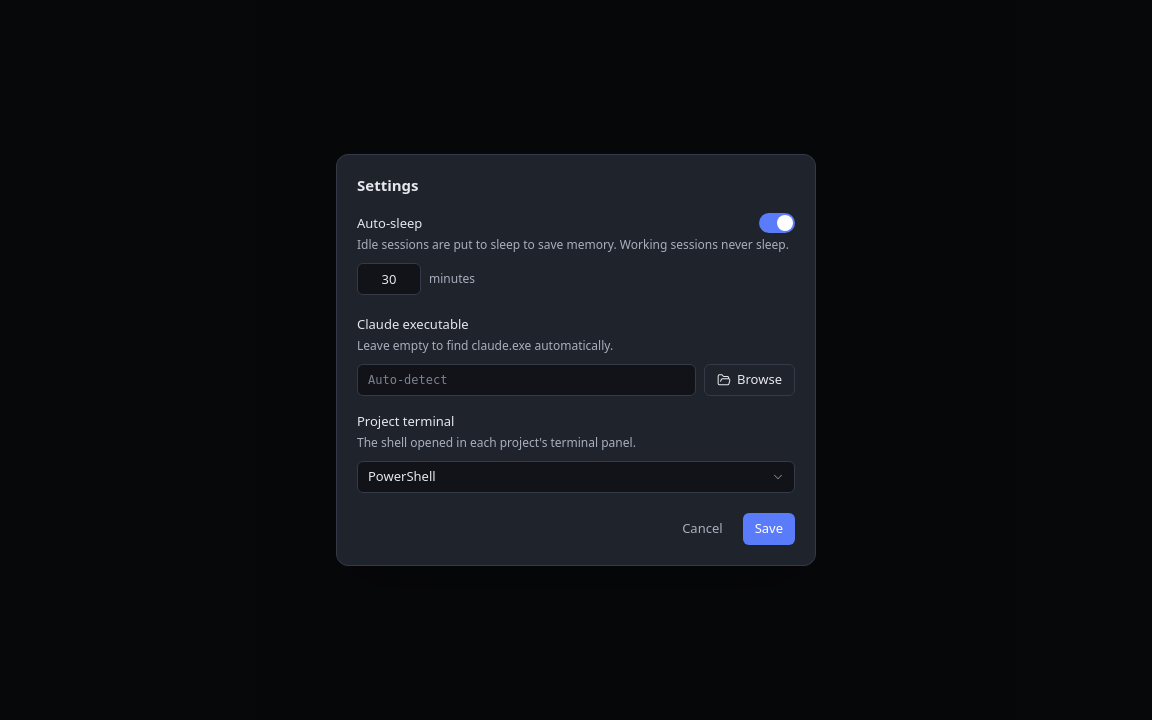
SettingsDialog › Browse fills the path from the dialog plugin
Step 1. Click the button "Browse" → (750, 380), box [704,364,795,396]
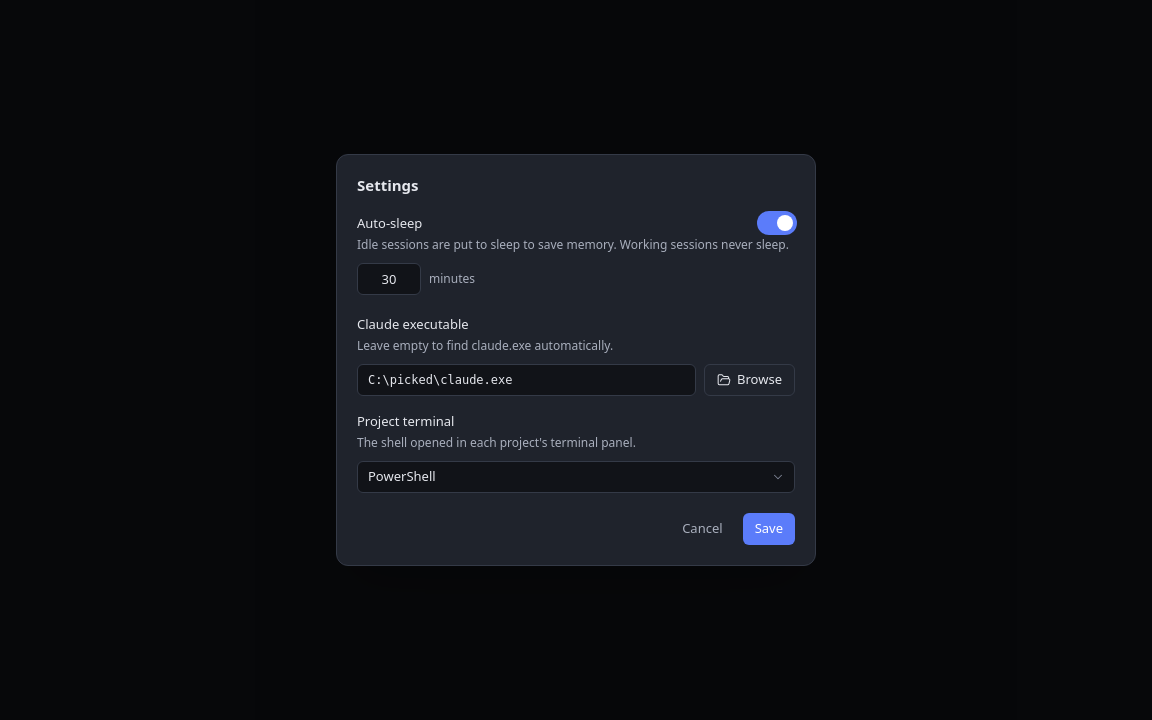
Expected: the field with id "set-path" holds "C:\\picked\\claude.exe", [357,364,696,396]
